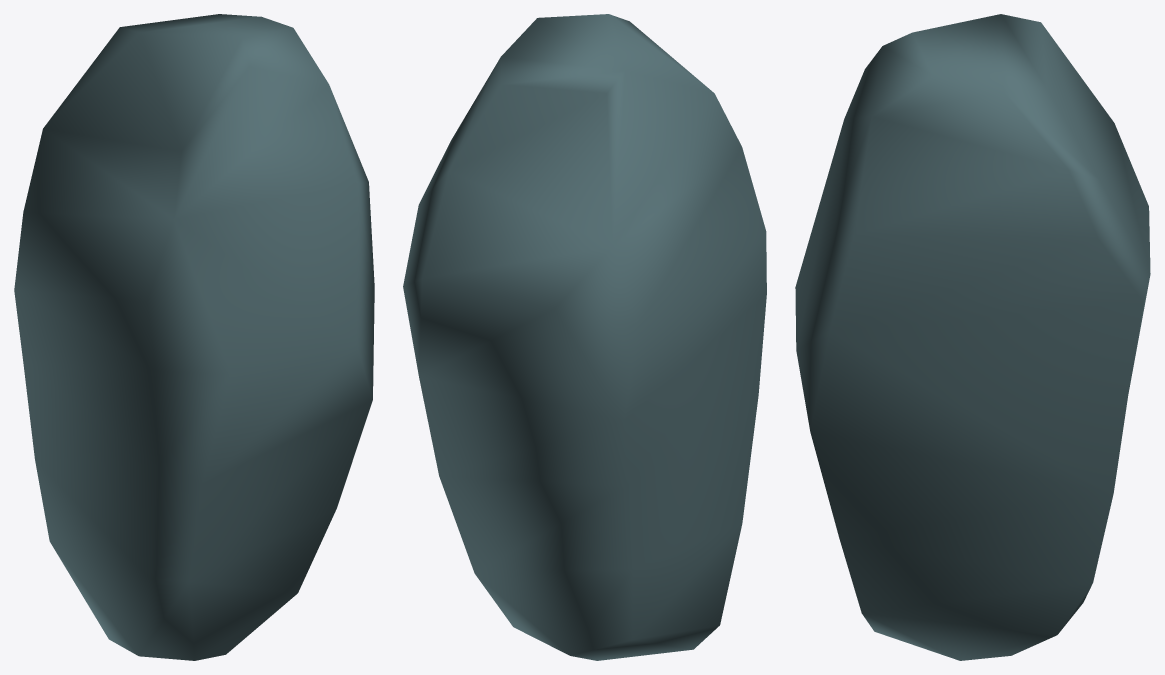
File: rock_04.glb
3 views of the same model, side by side, from view 1: azimuth 30°, elevation 25°; view 2: azimuth 150°, elevation 25°; view 3: azimuth 270°, elevation 25° (orthographic). The views are drawn at different scales.
Parts seen in each view (by area): view 1: rockmodel4; view 2: rockmodel4; view 3: rockmodel4.
Part boxes in pixels (box(x1,y1,x2,y2)): rockmodel4: box(14, 14, 374, 660); rockmodel4: box(403, 14, 766, 660); rockmodel4: box(795, 14, 1150, 660).
Bounding box in the file's own units: 0.3554 × 0.8959 × 0.4648.
